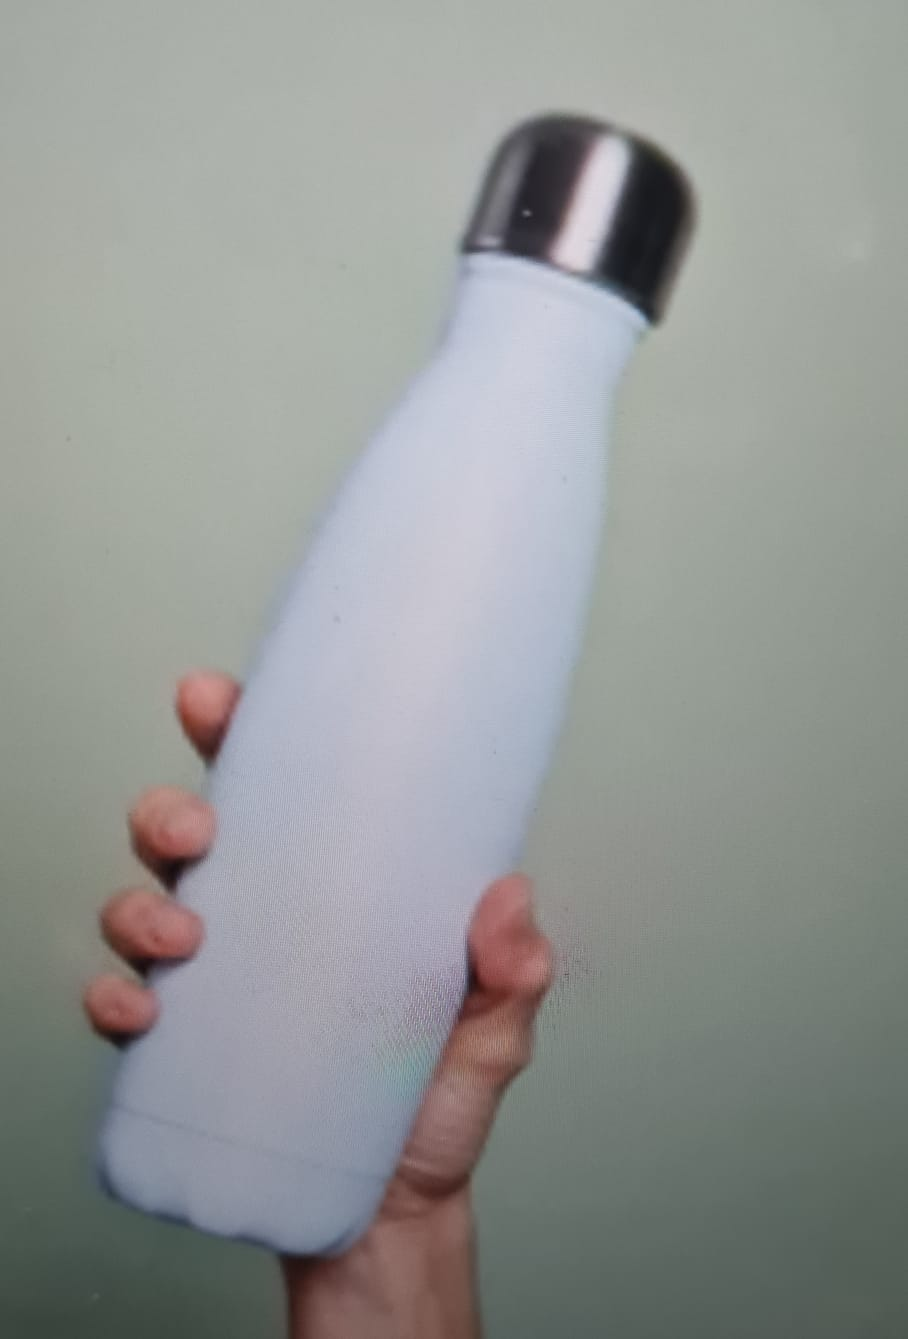bottle: (83, 101, 703, 1269)
